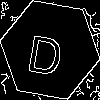D: (25, 25, 67, 77)
